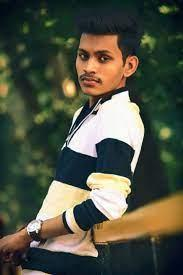Human: (24, 12, 137, 274)
